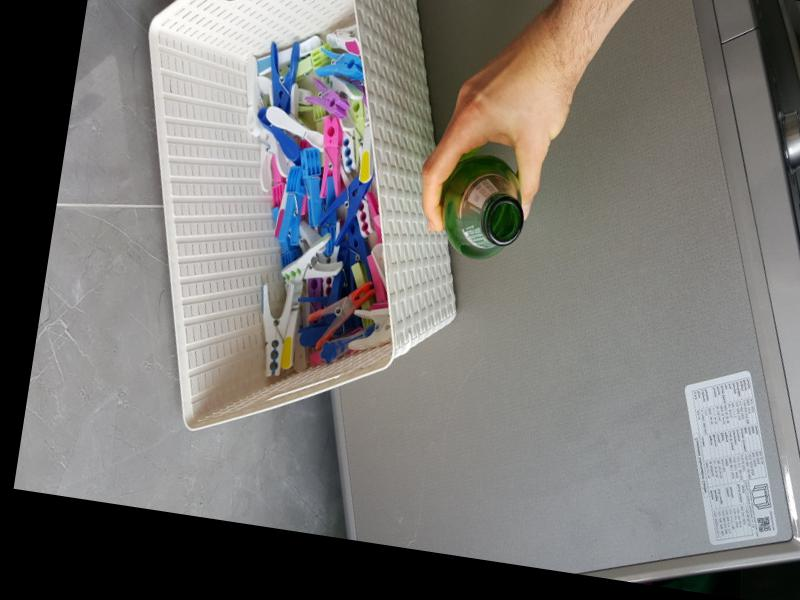Beer: (432, 147, 534, 266)
